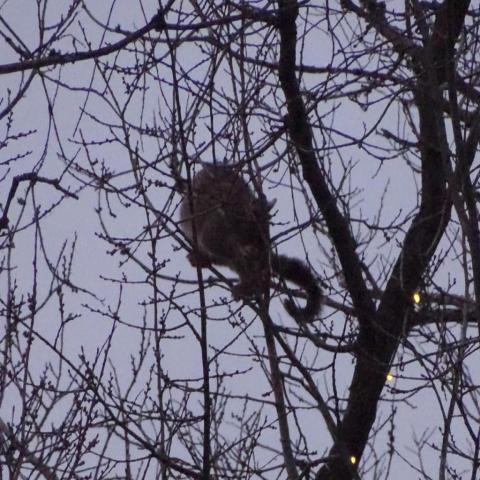small_animal: (177, 160, 325, 324)
